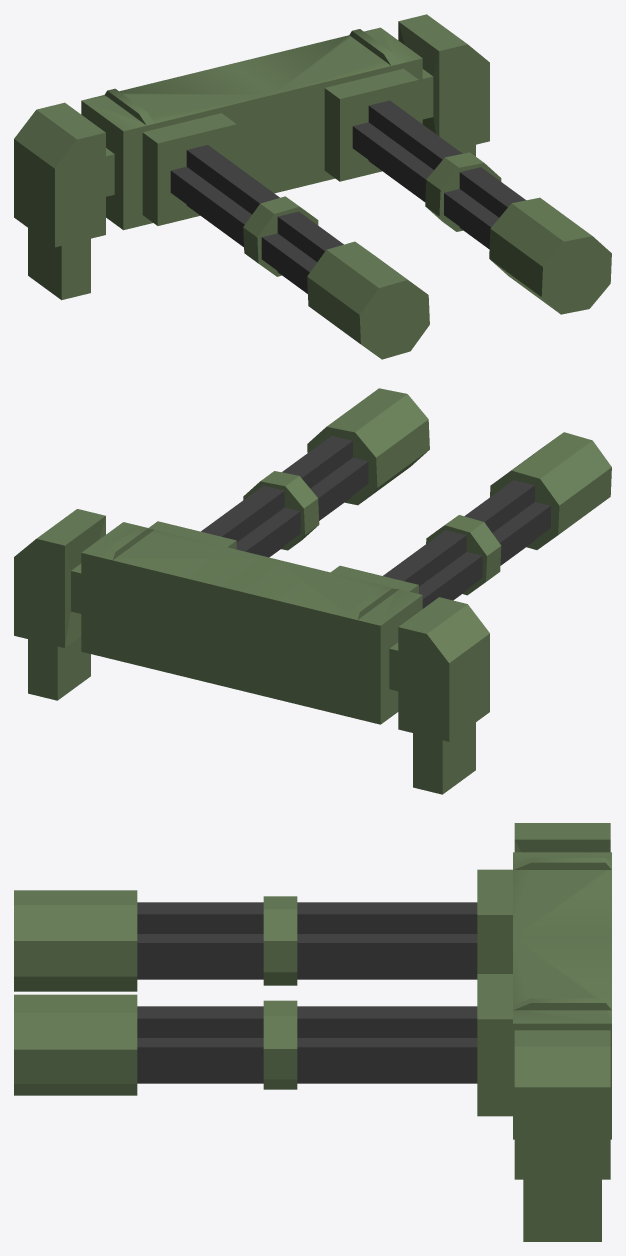
The model's file is Shotgun Cannon.FBX.
The picture shows the model from 3 angles, top to bottom: view 1: azimuth 30°, elevation 25°; view 2: azimuth 150°, elevation 25°; view 3: azimuth 270°, elevation 25°; orthographic projection. The views are drawn at different scales.
Parts seen in each view (by area): view 1: Shotgun Cannon, Shotgun Left Barrell, Shotgun Right Barrell; view 2: Shotgun Cannon, Shotgun Left Barrell, Shotgun Right Barrell; view 3: Shotgun Cannon, Shotgun Right Barrell, Shotgun Left Barrell.
Boxes of the visible parts, x1,y1,x2,y2 form: Shotgun Cannon: (14,14,489,300); Shotgun Left Barrell: (352,100,611,314); Shotgun Right Barrell: (170,145,429,359); Shotgun Cannon: (14,509,489,794); Shotgun Left Barrell: (201,388,429,557); Shotgun Right Barrell: (383,432,611,608); Shotgun Cannon: (477,823,611,1241); Shotgun Right Barrell: (14,890,477,991); Shotgun Left Barrell: (14,994,477,1095).
Bounding box in the file's own units: 104 × 37.55 × 106.
